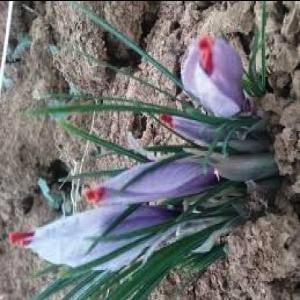Saffron: (26, 199, 181, 276), (171, 42, 258, 143), (85, 157, 226, 206)
